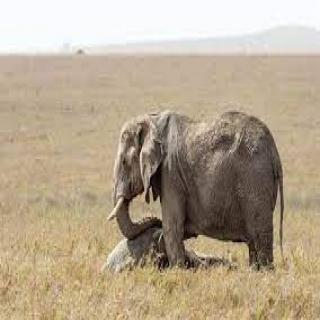Elephant: (104, 101, 287, 273)
